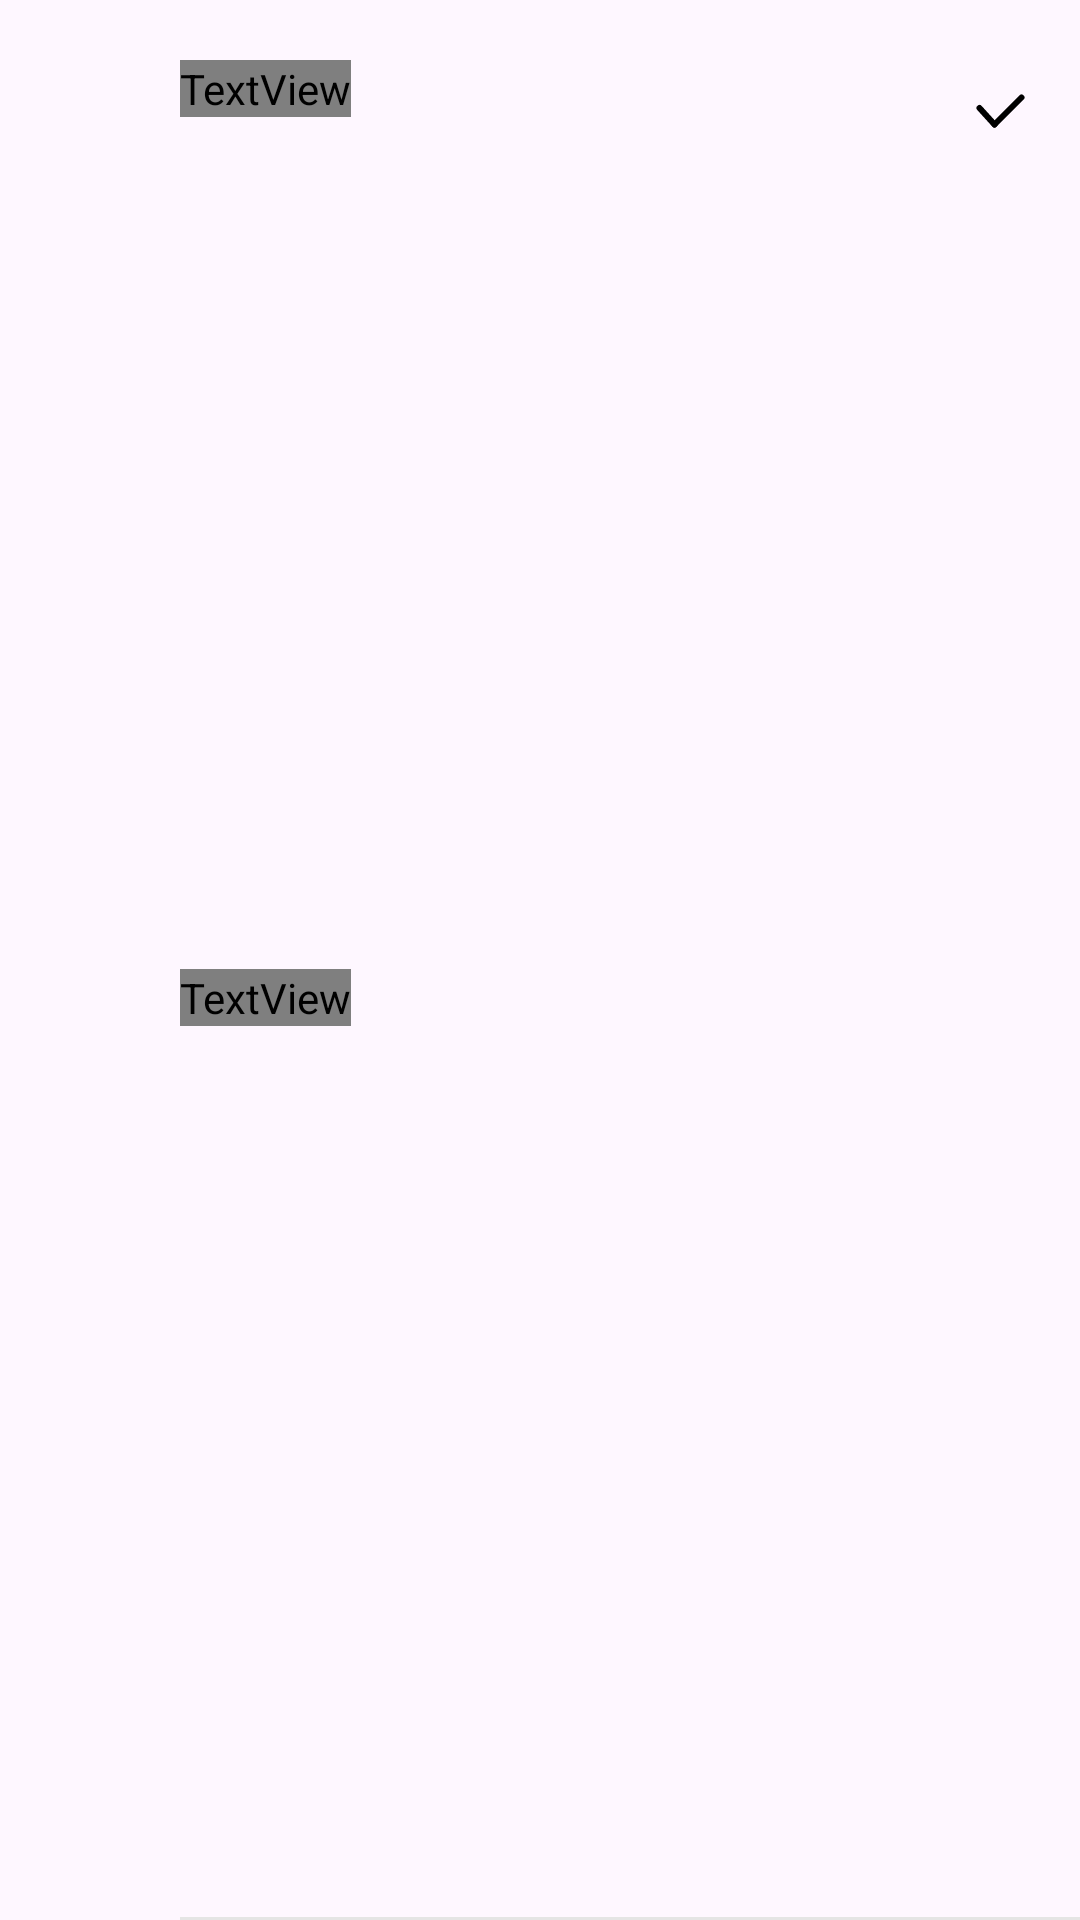

Screen size 1080*1920. Icon name, then its center in pixels as (x,y):
select: (1000,111)
